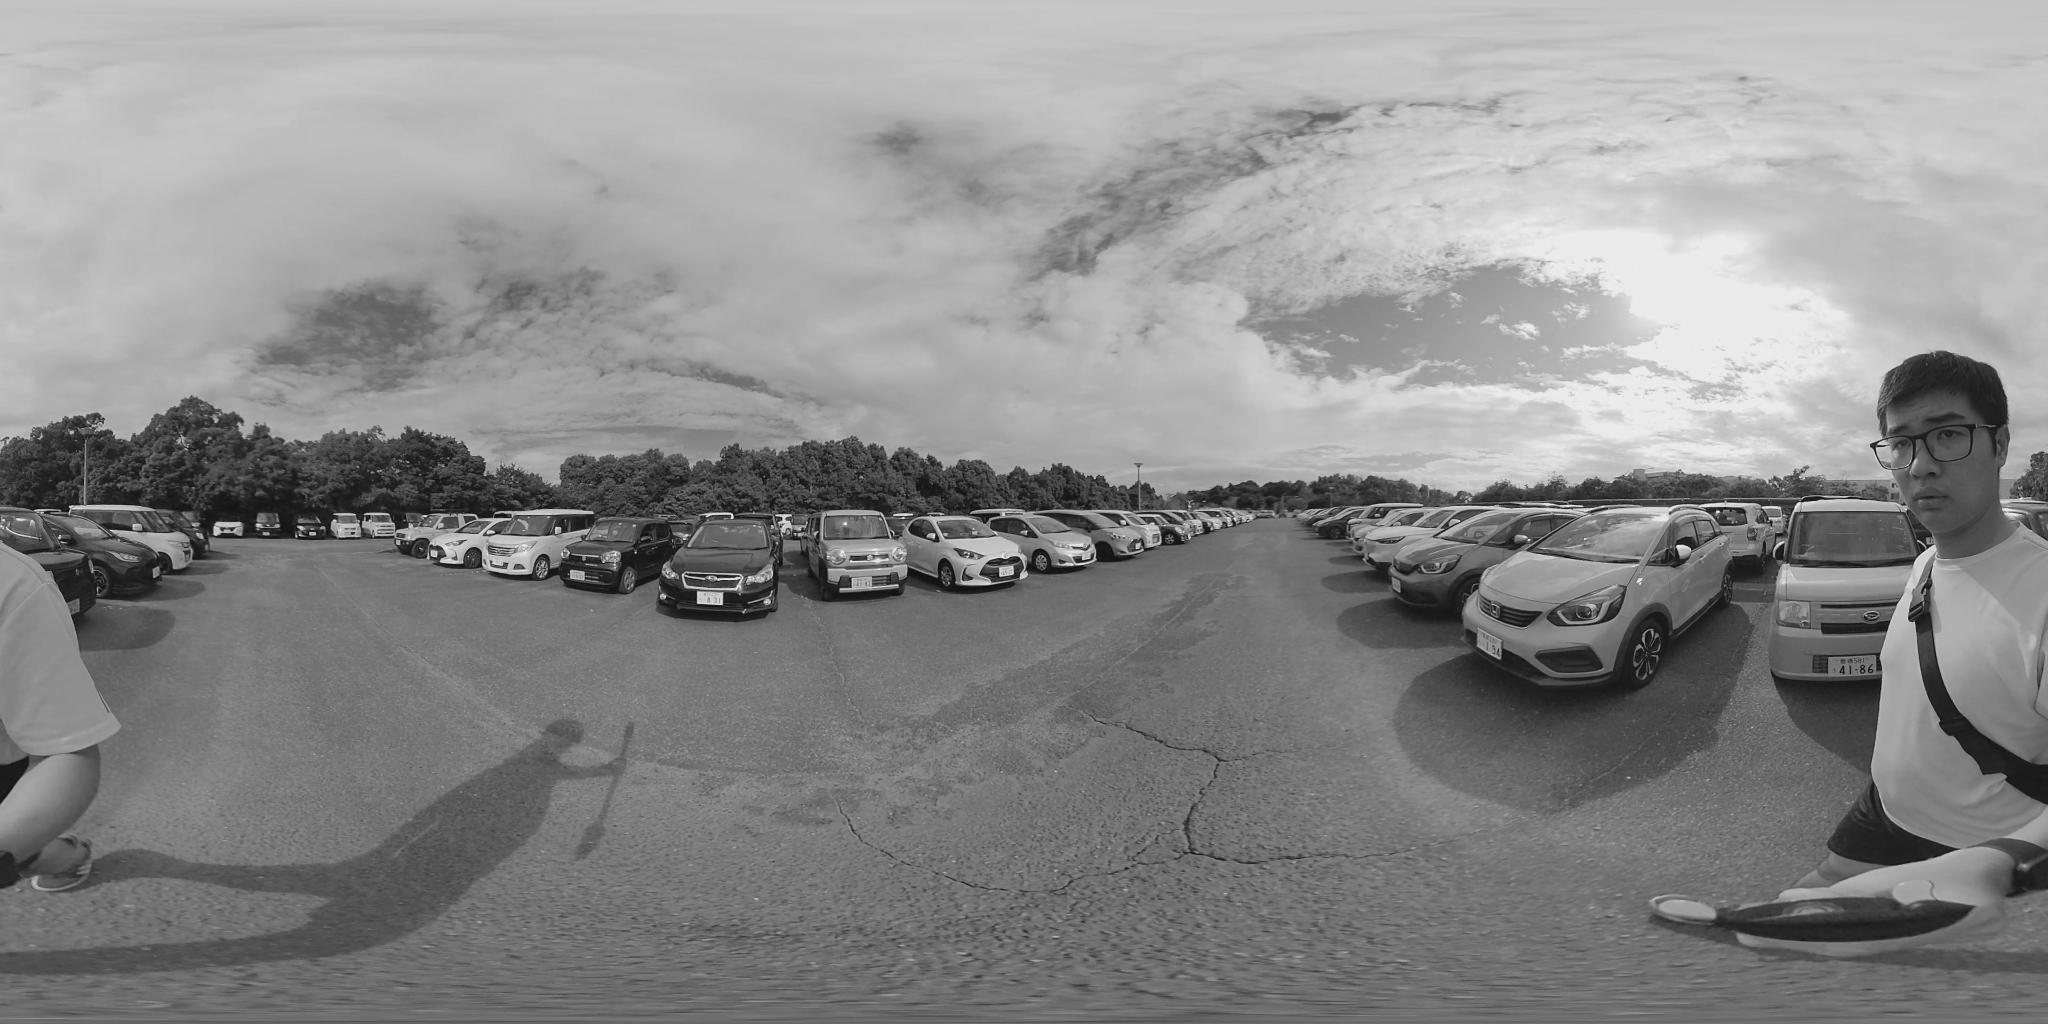car: (1460, 509, 1750, 690), (1754, 505, 1929, 687), (1377, 509, 1596, 606), (0, 509, 159, 605), (653, 521, 780, 620), (439, 512, 594, 576), (895, 517, 1029, 590), (1349, 508, 1496, 568), (68, 505, 205, 569), (559, 519, 679, 590), (808, 513, 905, 589), (974, 512, 1098, 571), (1051, 508, 1161, 555), (1315, 504, 1433, 539), (1162, 512, 1206, 542), (1190, 509, 1238, 536)
